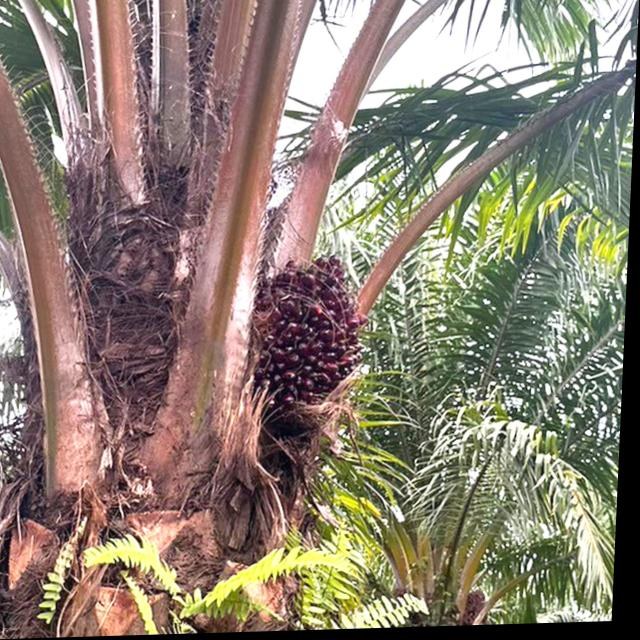ripe: (251, 236, 379, 415)
